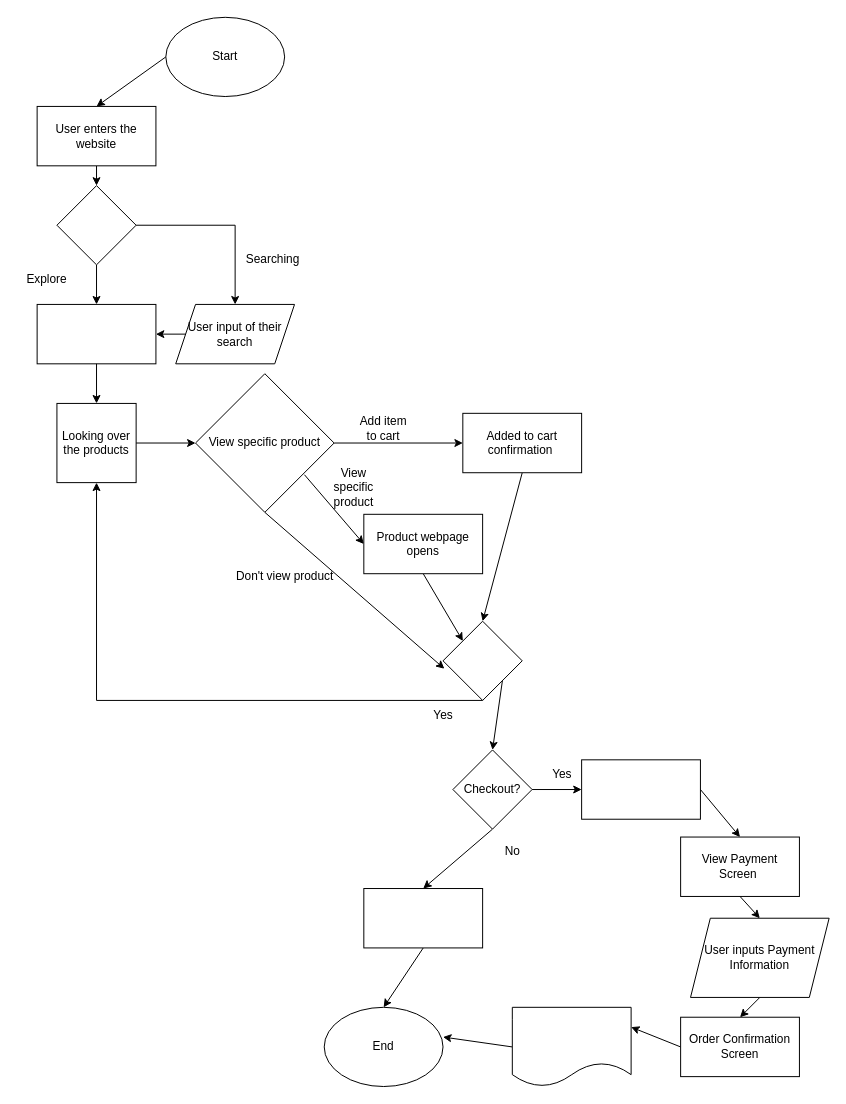
The diagram is 846 pixels wide and 1104 high, and some of its shapes have lost their labels. Each missing label, with the centre of its shape:
"Continue Shopping" goes at [482,660].
"Email of Order Confirmation" goes at [571,1046].
"Explore Products" goes at [96,333].
"Leave website" goes at [423,918].
"User Input" goes at [96,225].
"View Cart Screen" goes at [640,789].
